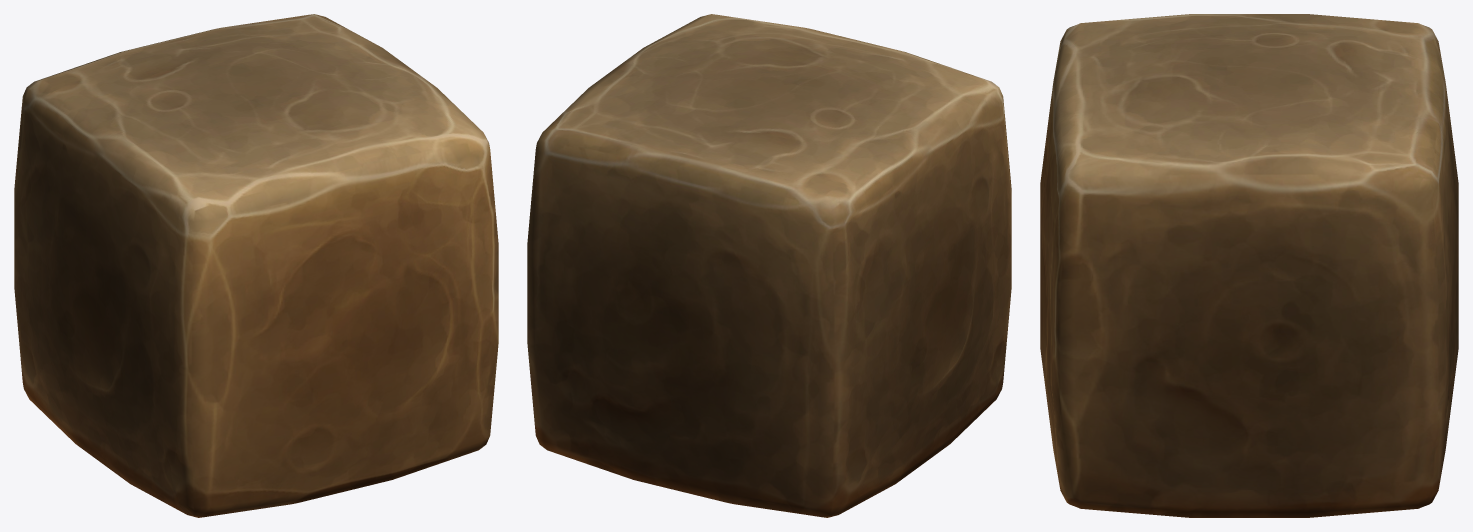
File: stylized_low-poly_sand_block.glb
The picture shows the model from 3 angles, left to right: view 1: azimuth 30°, elevation 25°; view 2: azimuth 150°, elevation 25°; view 3: azimuth 270°, elevation 25°; orthographic projection. The views are drawn at different scales.
Parts seen in each view (by area): view 1: block; view 2: block; view 3: block.
Boxes of the visible parts, x1=… form: block: x1=14, y1=14, x2=498, y2=517; block: x1=527, y1=14, x2=1011, y2=517; block: x1=1040, y1=14, x2=1458, y2=517.
Bounding box in the file's own units: 1 × 1 × 1.
Materials: 1 (1 with a texture image).
